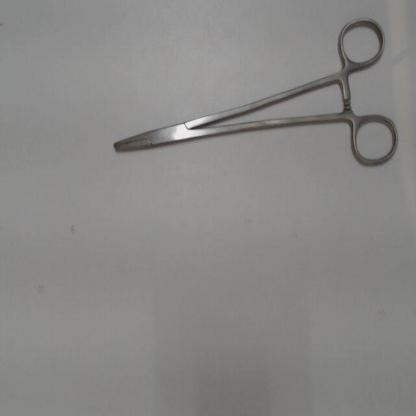8 Mayo Needle Holder: (104, 5, 406, 179)
